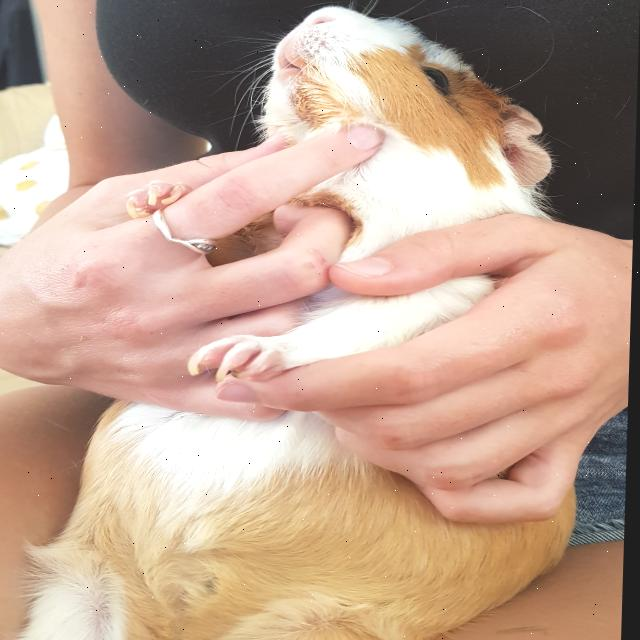guinea pig: (27, 5, 592, 640)
